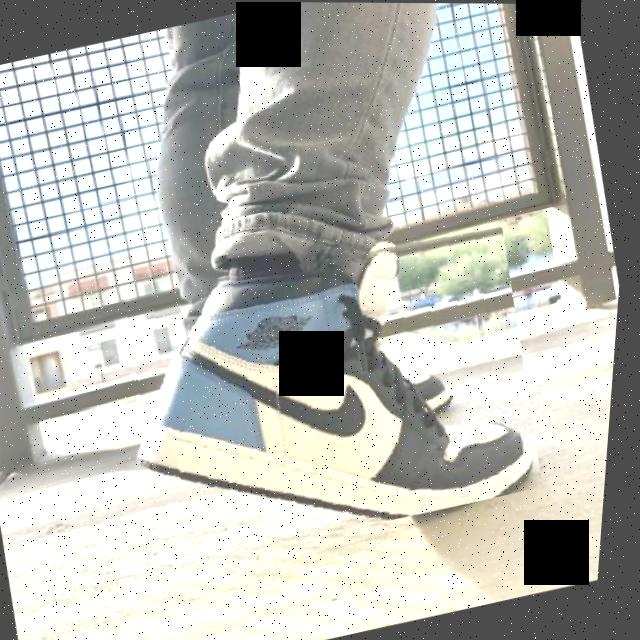shoe: (99, 209, 566, 574)
